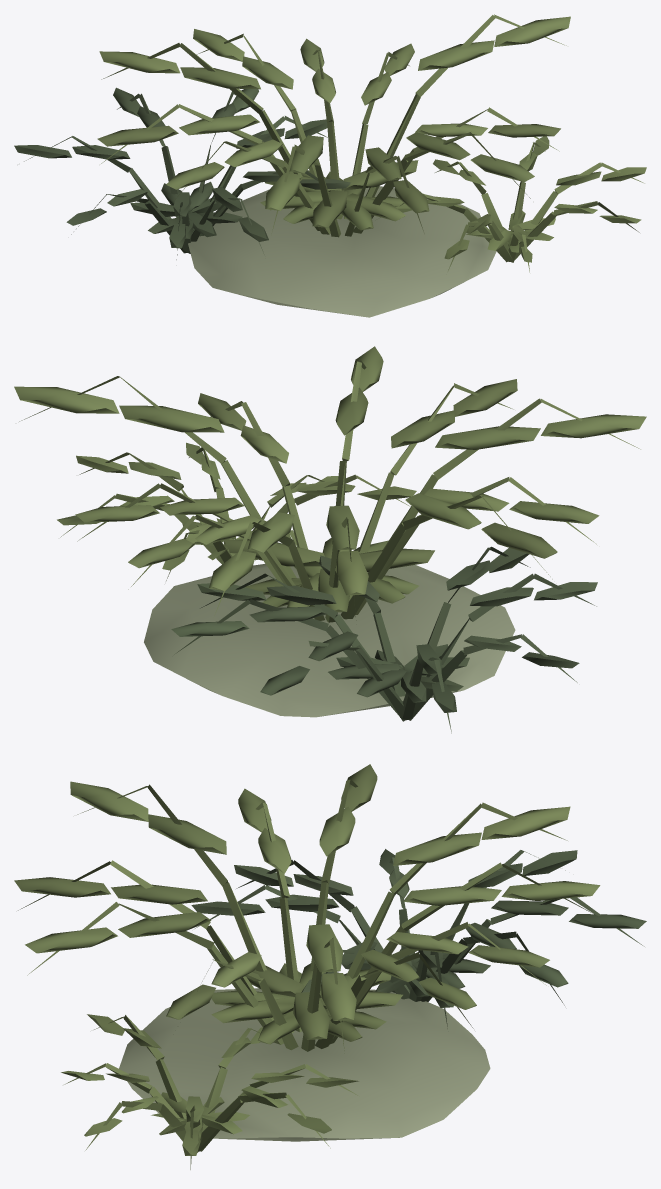
The model's file is cave_fern_b_lod1.glb.
3 renders of one model, top to bottom at view 1: azimuth 30°, elevation 25°; view 2: azimuth 150°, elevation 25°; view 3: azimuth 270°, elevation 25°, orthographic. The views are drawn at different scales.
Parts seen in each view (by area): view 1: Surface.001; view 2: Surface.001; view 3: Surface.001.
Part boxes in pixels (<box>): Surface.001: <box>14,14,646,317</box>; Surface.001: <box>14,346,646,733</box>; Surface.001: <box>14,764,646,1169</box>.
Bounding box in the file's own units: 3.22 × 1.27 × 2.92.
